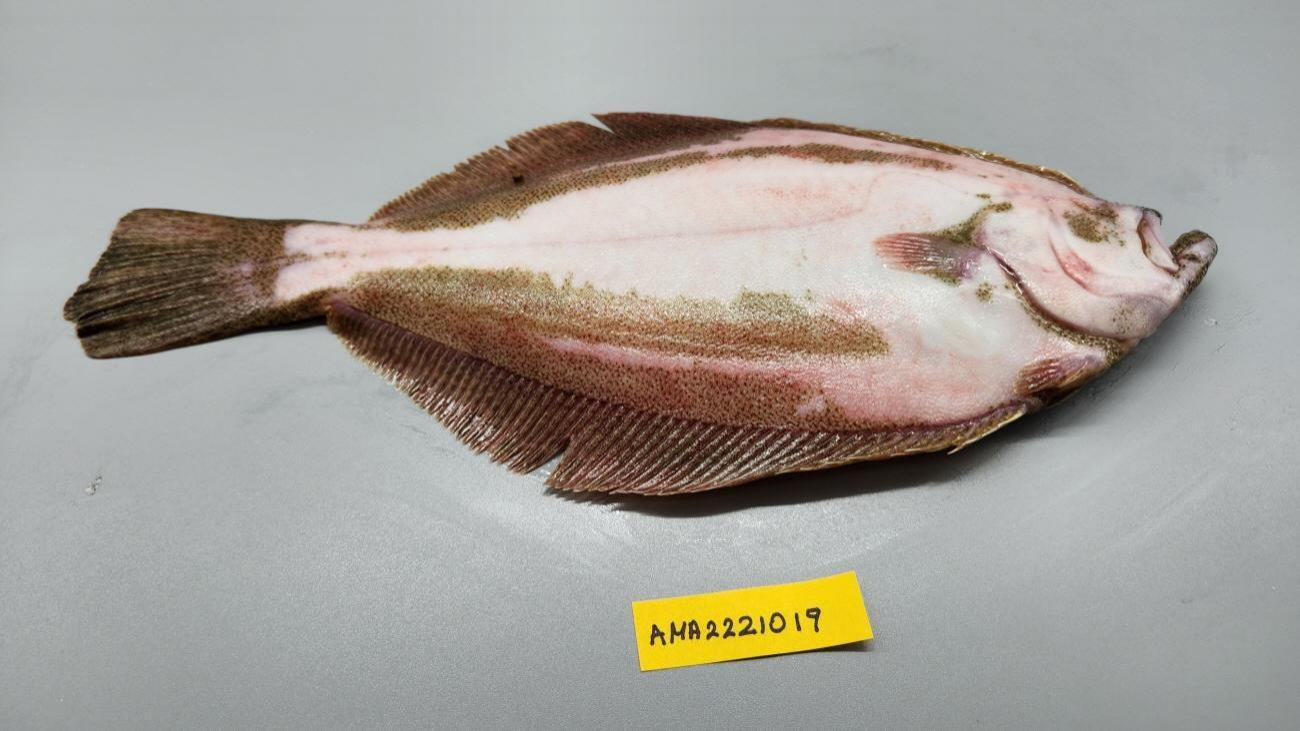MAFCH: (64, 207, 257, 358)
MAOUY: (64, 113, 1219, 504)
